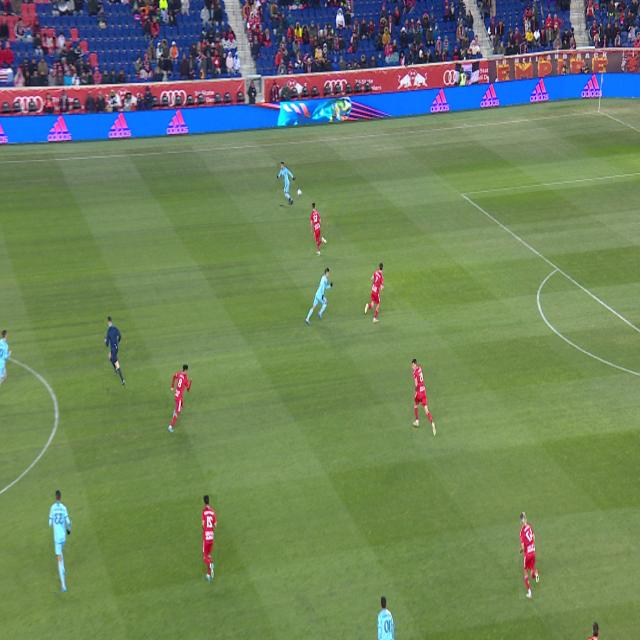football: (298, 189, 301, 196)
player: (49, 490, 71, 592), (412, 359, 436, 436), (520, 512, 539, 599), (168, 364, 192, 432), (306, 268, 332, 324), (202, 496, 217, 581), (365, 263, 384, 323), (311, 203, 327, 255), (277, 162, 295, 205), (0, 330, 12, 387), (378, 597, 394, 639), (587, 622, 599, 640)
referee: (105, 317, 126, 388)
